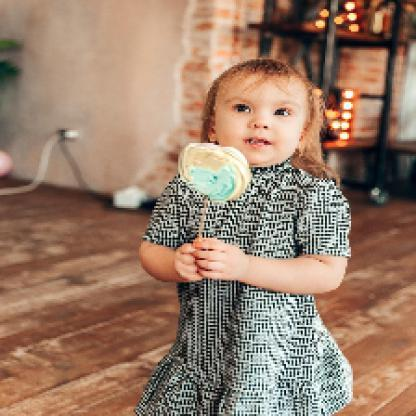child: (135, 57, 358, 416)
